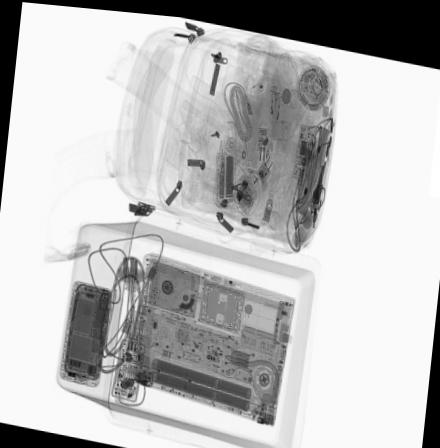Lighter: (273, 84, 285, 120), (269, 75, 278, 116)
